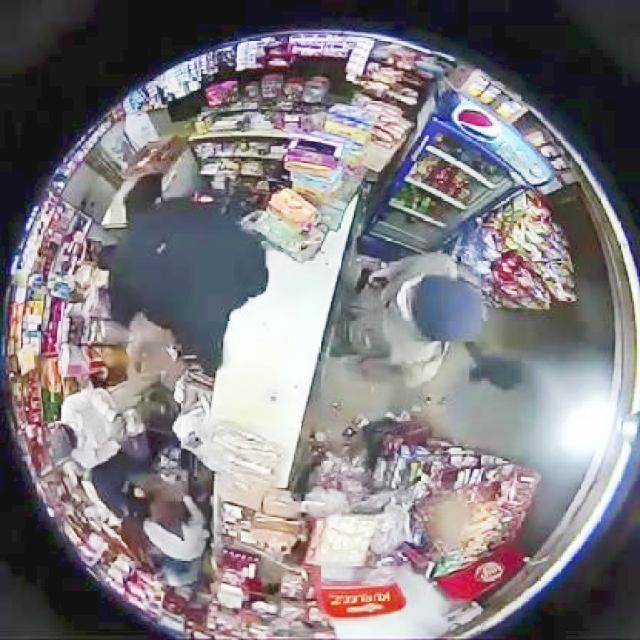Gun: (353, 259, 391, 310)
